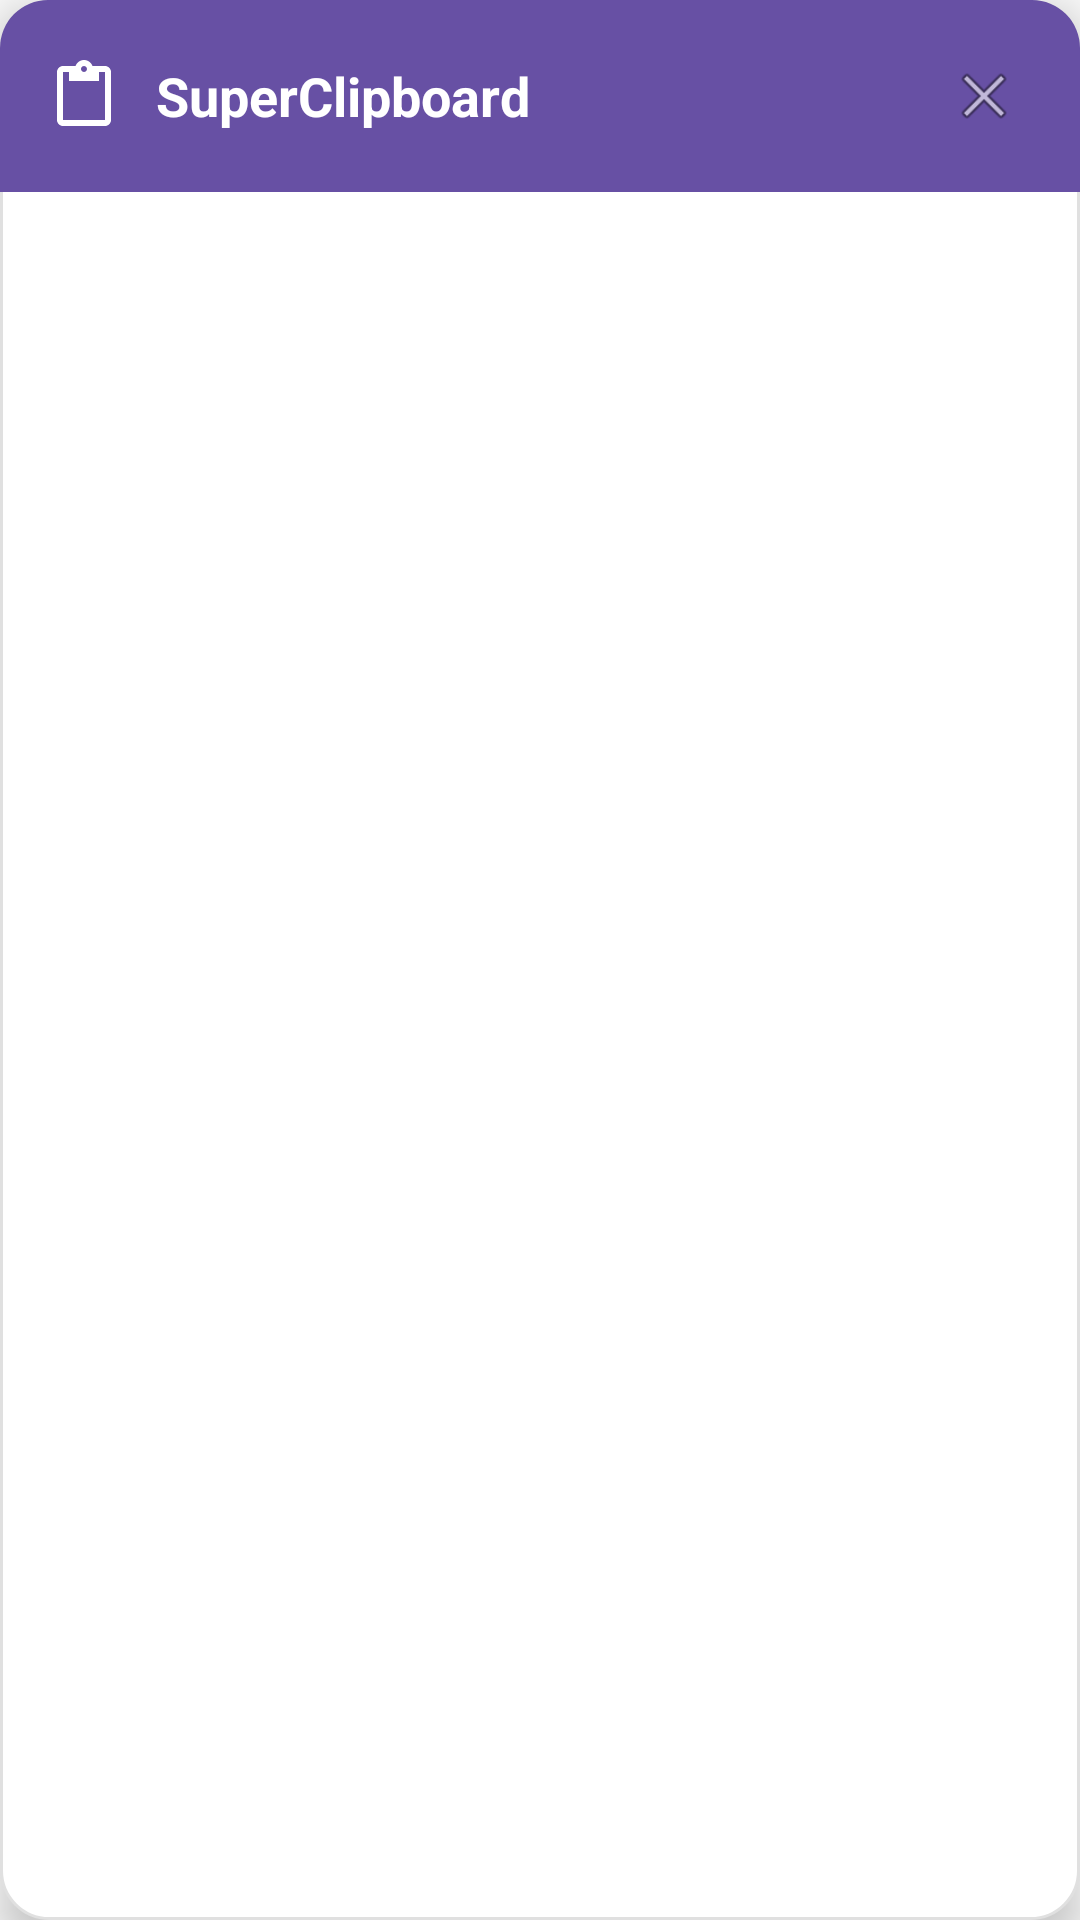

Named icons in this screenshot (1080x1920) and their bounding boxes, [x1, y1, x2, y2]:
Close: [962, 74, 1006, 118]
